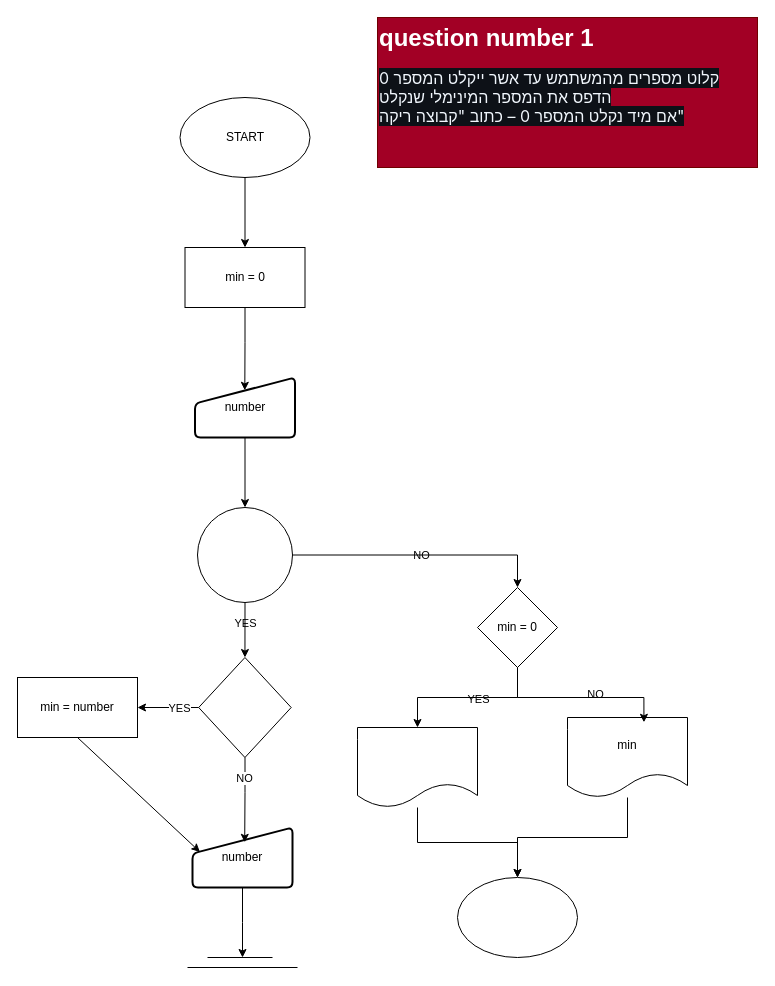
Image size: 775x986. Some labels were removed from this diagram. The shapes that lost their labels are listed below. From the top down, each one's box as (x1, y1, x2, y2) in pixels, then its label:
(196, 506, 292, 602): while number != 0
(198, 656, 291, 758): number < min
(356, 726, 478, 808): "Empty Group!"
(456, 876, 578, 958): STOP
